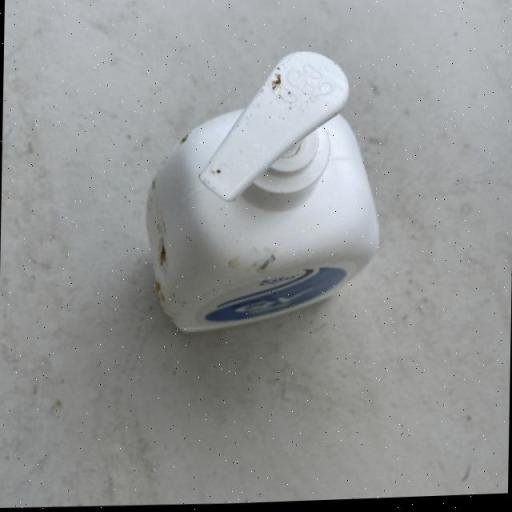plastic: (141, 46, 382, 340)
